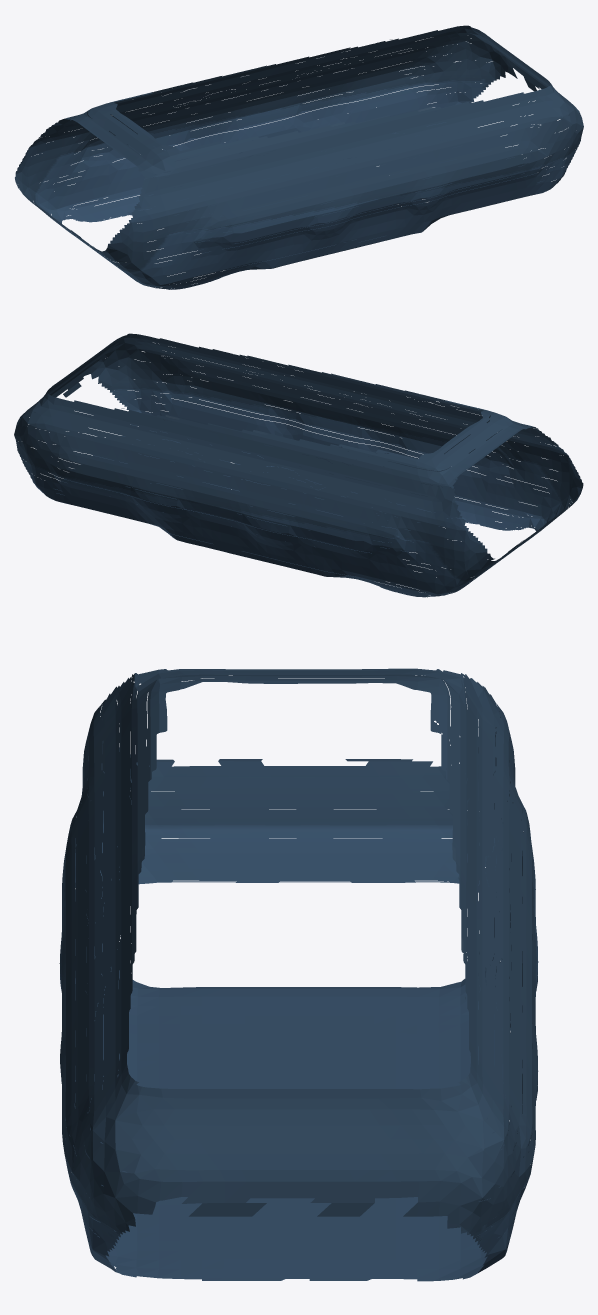
The picture shows the model from 3 angles, top to bottom: view 1: azimuth 30°, elevation 25°; view 2: azimuth 150°, elevation 25°; view 3: azimuth 270°, elevation 25°; orthographic projection. The views are drawn at different scales.
Visible parts, largest first — view 1: reconstruction; view 2: reconstruction; view 3: reconstruction.
Boxes of the visible parts, bbox=[...] form: reconstruction: bbox=[15, 25, 583, 289]; reconstruction: bbox=[14, 333, 583, 597]; reconstruction: bbox=[59, 668, 538, 1281].
Bounding box in the file's own units: 1 × 0.2911 × 0.4238.
1 material, 1 textured.
